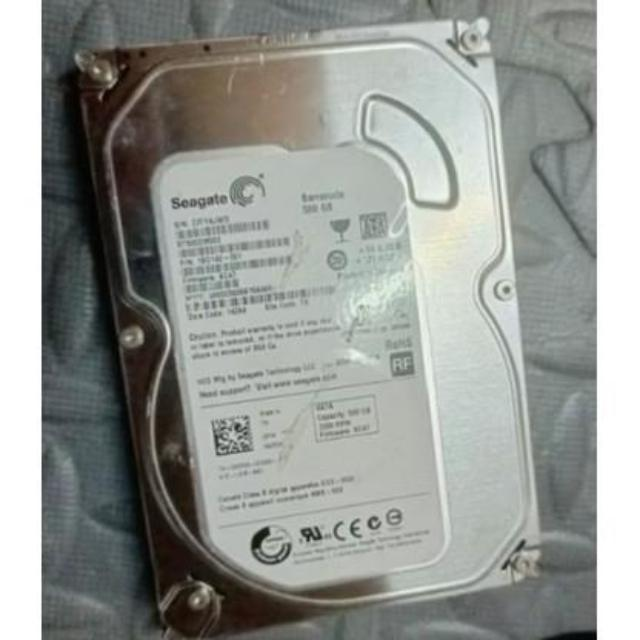DISK: (64, 13, 550, 635)
